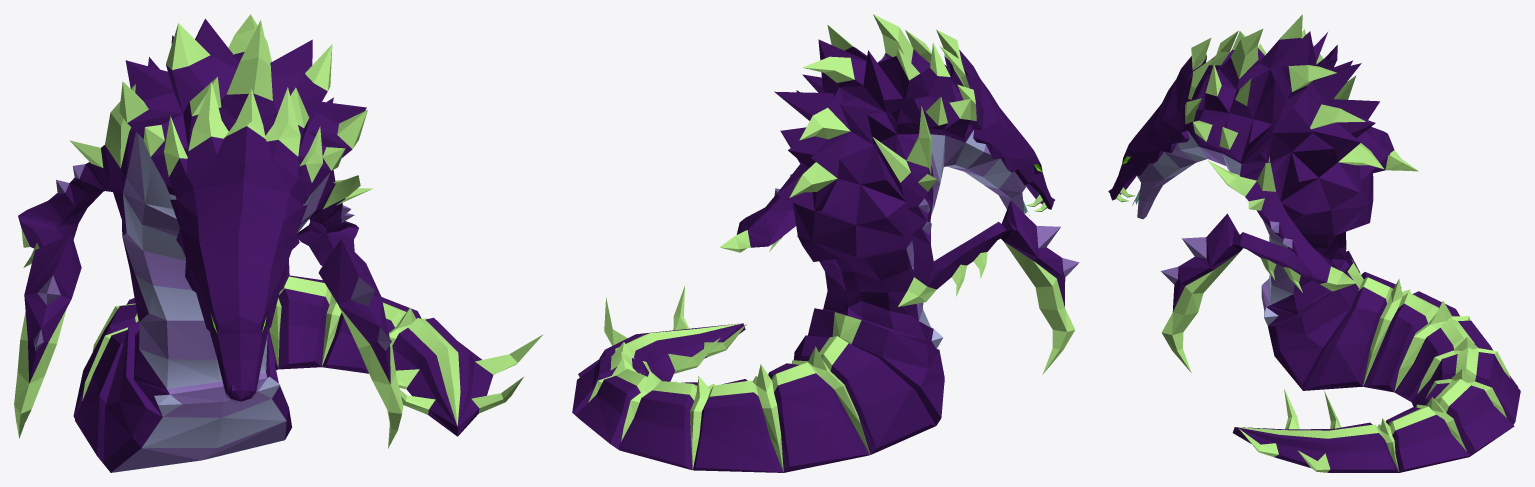
The model's file is Attack (7).obj.
3 views of the same model, side by side, from view 1: azimuth 30°, elevation 25°; view 2: azimuth 150°, elevation 25°; view 3: azimuth 270°, elevation 25° (orthographic). The views are drawn at different scales.
Visible parts, largest first — view 1: Alien_Serpent; view 2: Alien_Serpent; view 3: Alien_Serpent.
Boxes of the visible parts, box(x1,y1,x2,y2) form: Alien_Serpent: box(14, 14, 542, 472); Alien_Serpent: box(572, 14, 1079, 472); Alien_Serpent: box(1108, 14, 1520, 472).
Size of the model in its own units: 276 by 218 by 236.
Materials: 1 (1 with a texture image).
